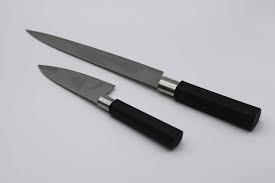Knife: (25, 28, 261, 131), (37, 63, 183, 150)
